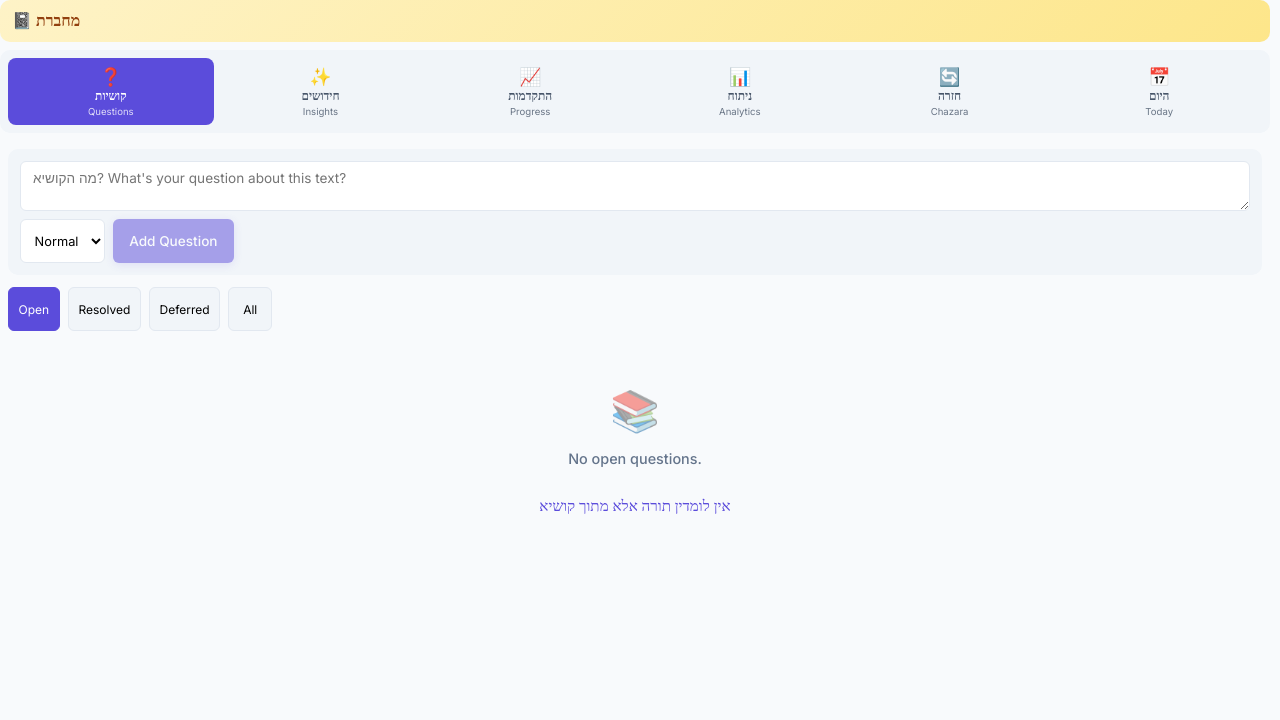
NotebookTab (rendu + navigation des sous-onglets) › Progress : rend sans données de maîtrise
The image size is (1280, 720).
Click the button "📈 התקדמות Progress": (530, 92) [427,58,633,125]
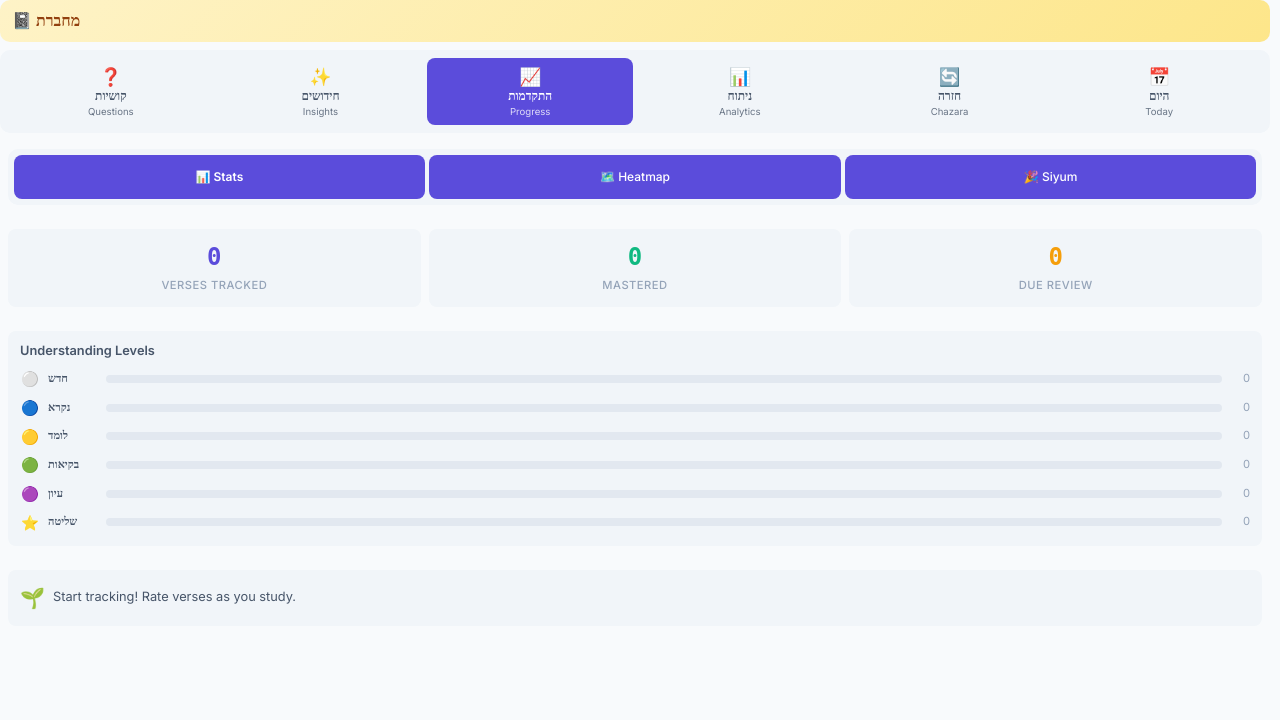
Expected: the text "Start tracking! Rate verses as you study." is shown, [53,587,296,608]
